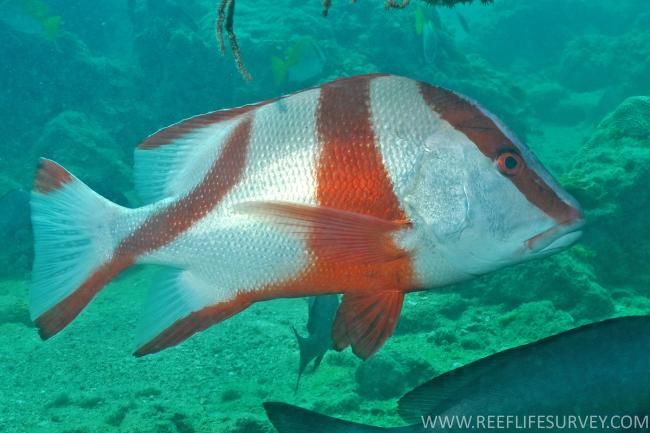fish: (28, 73, 586, 362)
